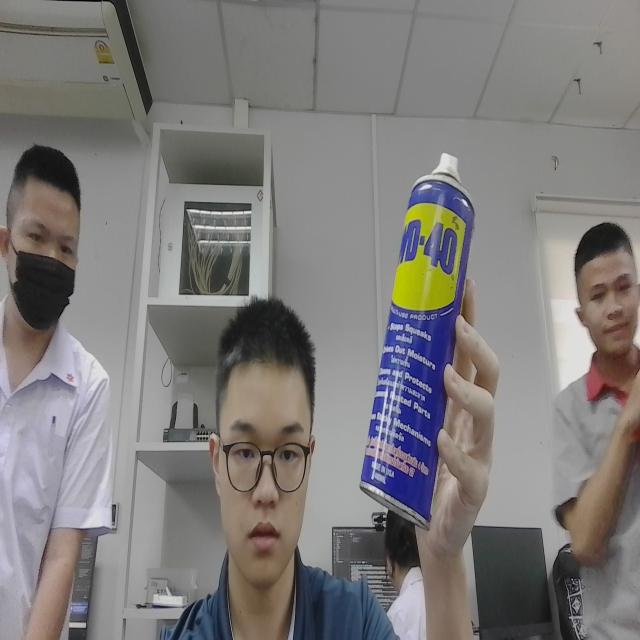wd-40: (348, 122, 495, 554)
